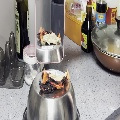fire: (42, 66, 69, 90)
